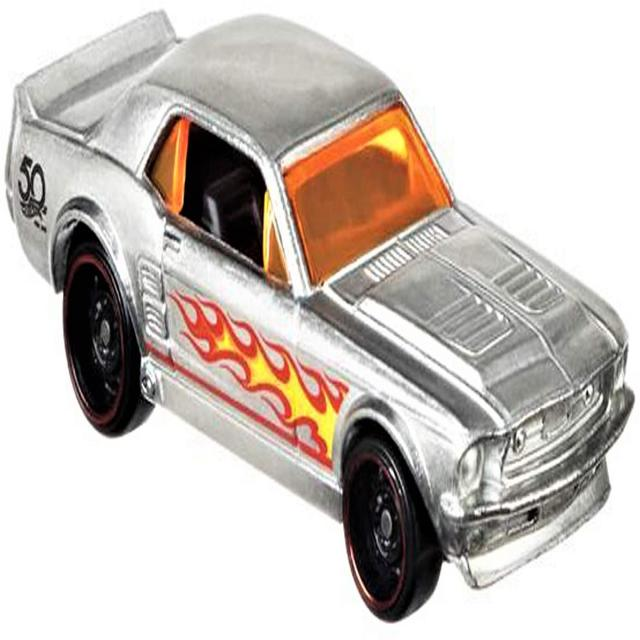Car: (4, 7, 635, 623)
